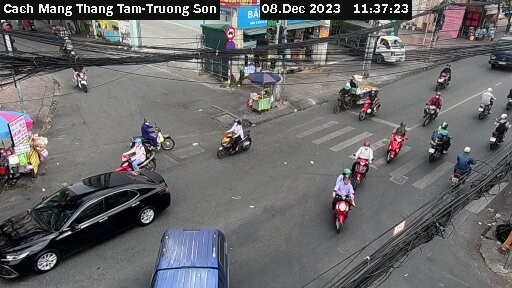car: (1, 169, 170, 281), (149, 218, 239, 288)
motorbike: (314, 167, 363, 233), (213, 120, 271, 167), (336, 145, 389, 189), (110, 135, 159, 173), (381, 123, 420, 165), (60, 61, 105, 97), (141, 123, 188, 155), (424, 124, 457, 167), (445, 148, 477, 188), (432, 59, 466, 94), (358, 92, 386, 129), (473, 84, 501, 118), (420, 97, 450, 128), (487, 114, 512, 150)
truck: (341, 16, 413, 62), (484, 29, 512, 73)
